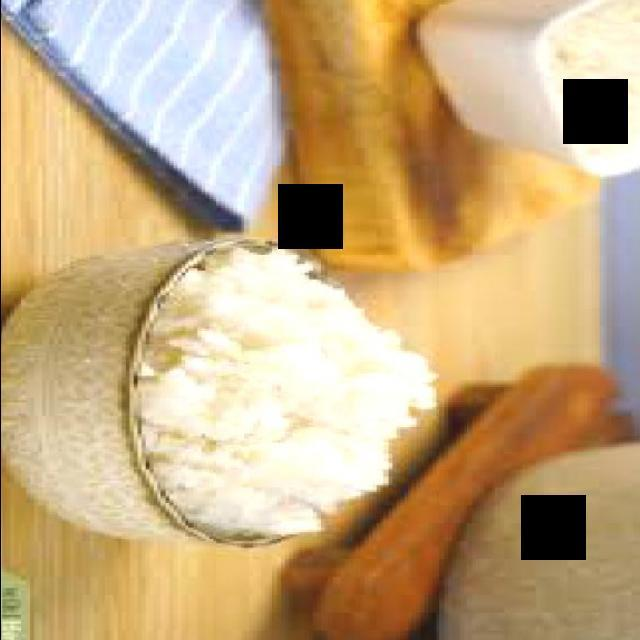rice: (134, 249, 440, 537)
